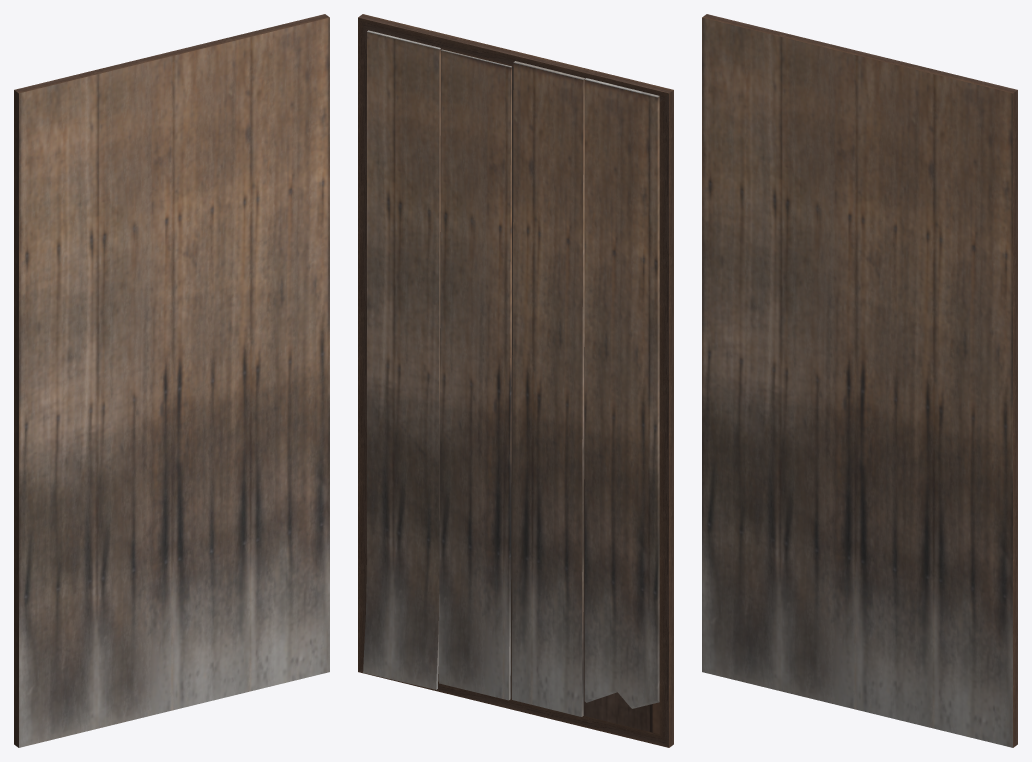
Rendered from amado_d3.fbx.
The picture shows the model from 3 angles, left to right: view 1: azimuth 30°, elevation 25°; view 2: azimuth 150°, elevation 25°; view 3: azimuth 330°, elevation 25°; orthographic projection.
Parts seen in each view (by area): view 1: amado_d3; view 2: amado_d3; view 3: amado_d3.
Boxes of the visible parts, x1,y1,x2,y2 form: amado_d3: (14,14,329,747); amado_d3: (358,14,673,747); amado_d3: (702,14,1017,747).
Size of the model in its own units: 110 by 221 by 6.39.
